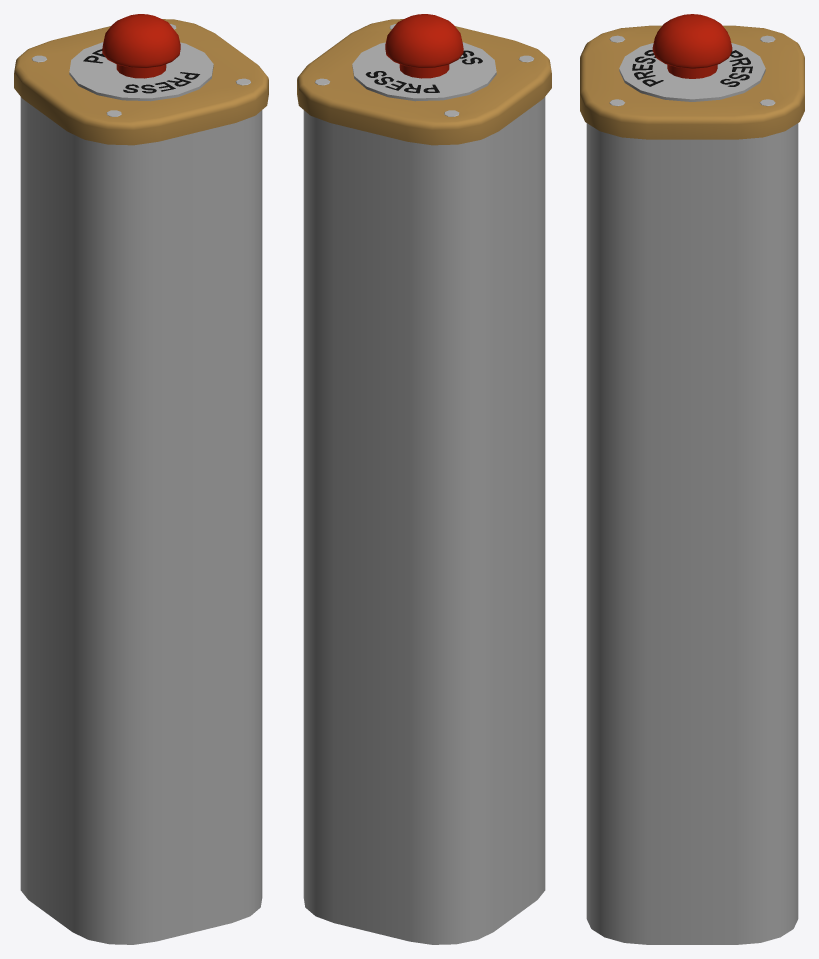
File: StandingButton.fbx
3 views of the same model, side by side, from view 1: azimuth 30°, elevation 25°; view 2: azimuth 150°, elevation 25°; view 3: azimuth 270°, elevation 25° (orthographic).
Parts seen in each view (by area): view 1: ButtonSpace2.004, ButtonPress2.004; view 2: ButtonSpace2.004, ButtonPress2.004; view 3: ButtonSpace2.004, ButtonPress2.004.
Boxes of the visible parts, box(x1,y1,x2,y2) form: ButtonSpace2.004: box(14, 19, 268, 944); ButtonPress2.004: box(102, 14, 180, 78); ButtonSpace2.004: box(297, 19, 551, 944); ButtonPress2.004: box(385, 14, 463, 78); ButtonSpace2.004: box(580, 25, 804, 944); ButtonPress2.004: box(652, 14, 732, 78).
Size of the model in its own units: 20 by 86.3 by 20.
